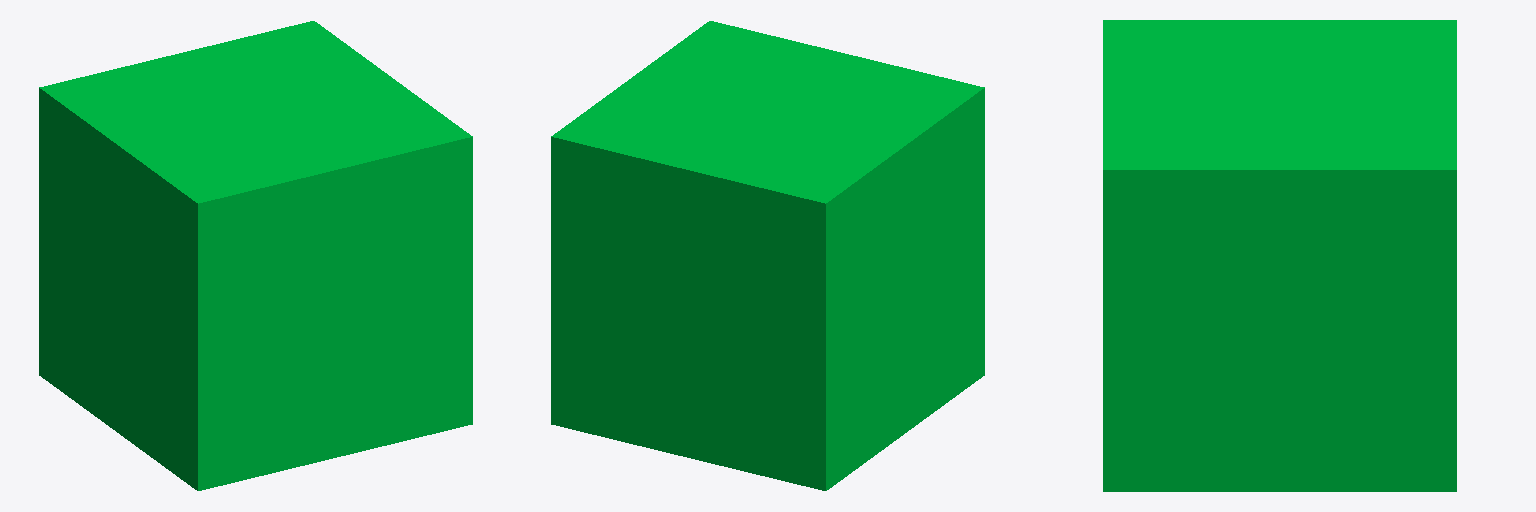
robot.urdf — box:
<robot name="box">

  <link name="box">
		<visual>
		    <origin xyz="0 0 0." rpy="0 0 0"/>
			<geometry>
				<box size="1.2 1.2 1.2"/>
			</geometry>
			<material name="anotherOne">
	       		<color rgba="0 0.8 0.3 1.0"/>
	     	</material>
		</visual>
        <collision>
          <geometry>
				<box size="1.2 1.2 1.2"/>
          </geometry>
        </collision>
        <inertial>
          <mass value="0.02"/>
        <inertia ixx=".50" ixy="0.0" ixz="0" iyy=".5" iyz="0.0" izz=".5"/>
    </inertial>
  </link>

</robot>

--- Facts derived from the render (not from the file) ---
3 views of the same robot in one strip: view 1: azimuth 30°, elevation 25°; view 2: azimuth 150°, elevation 25°; view 3: azimuth 270°, elevation 25° (orthographic).
Robot: box — 1 links, 0 joints (none); root link box; default pose: all joints at 0.
Visible links, largest first — view 1: box; view 2: box; view 3: box.
Link boxes in pixels (x1,y1,x2,y2): box: (39,21,472,490); box: (551,21,984,490); box: (1103,20,1456,491).
Bounding box of the posed robot: 1.2 × 1.2 × 1.2 m (x, y, z).
Geometry: primitives only (box / cylinder / sphere), no mesh files.